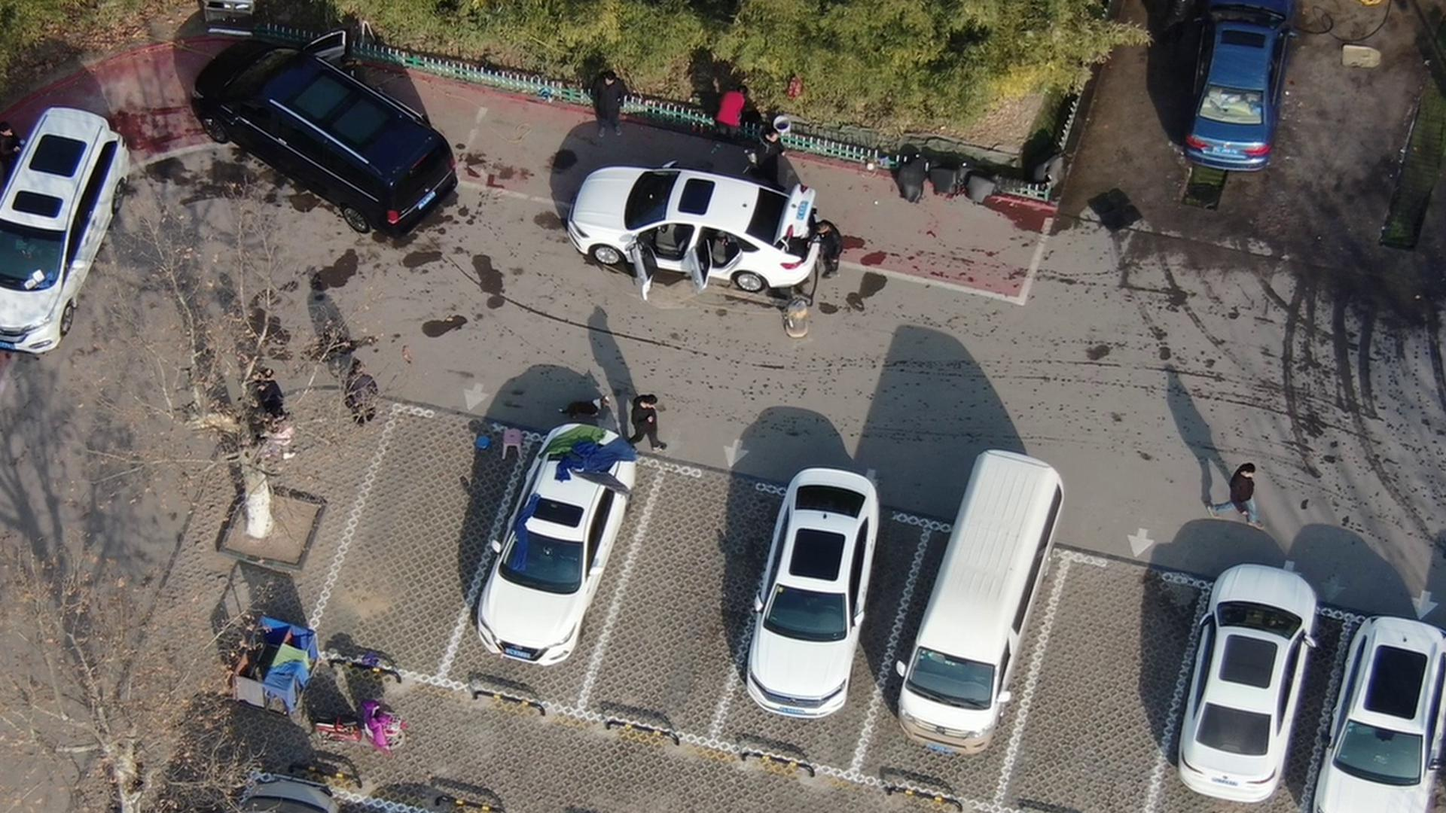class_2: (260, 364, 313, 448)
human: (1208, 455, 1276, 529), (347, 358, 390, 428), (817, 211, 859, 282), (9, 114, 44, 183), (629, 394, 667, 454), (605, 62, 637, 131), (1161, 1, 1208, 45), (724, 81, 755, 145), (755, 126, 791, 178)
